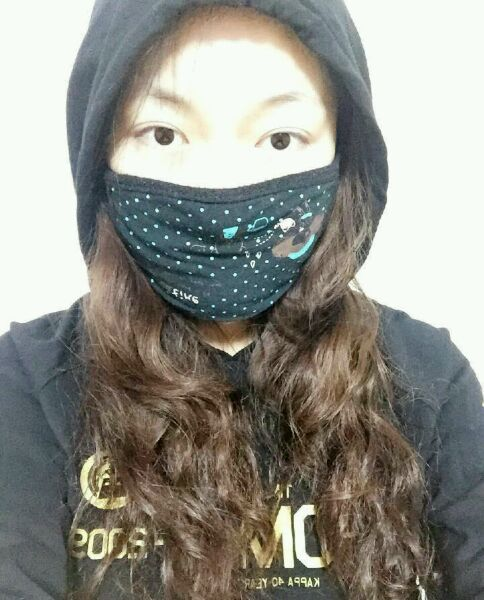face_mask: (109, 16, 334, 344)
